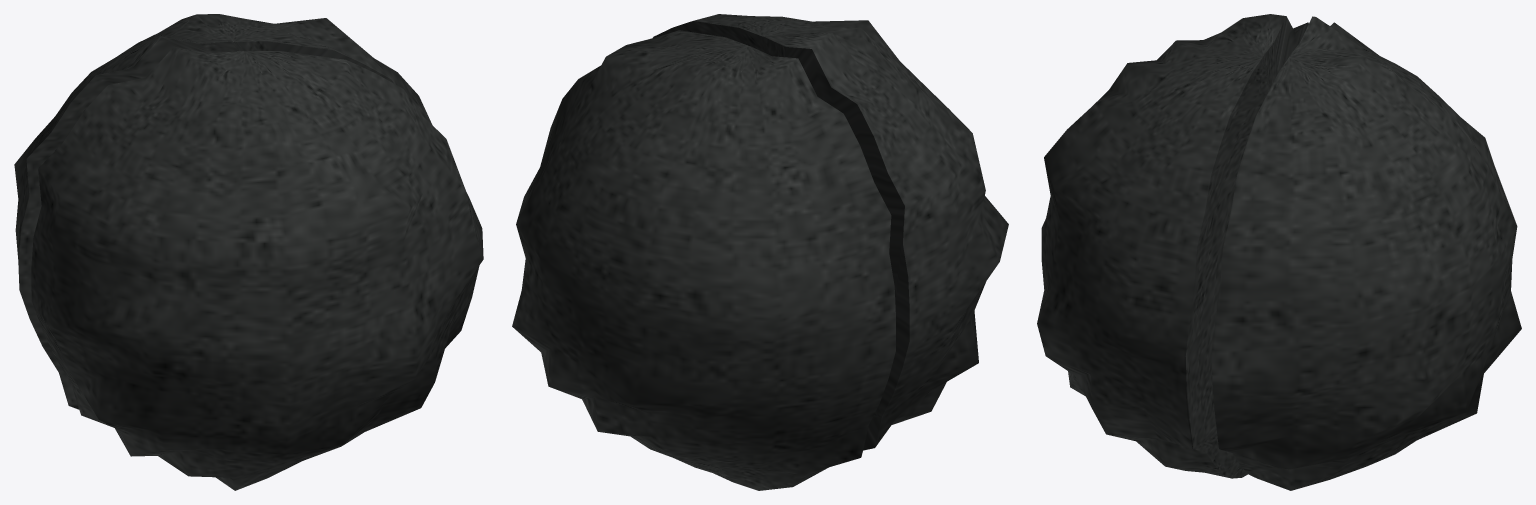
File: Bomb_Sliced.fbx
3 views of the same model, side by side, from view 1: azimuth 30°, elevation 25°; view 2: azimuth 150°, elevation 25°; view 3: azimuth 270°, elevation 25° (orthographic).
Visible parts, largest first — view 1: pSphere1; view 2: pSphere1; view 3: pSphere1.
Boxes of the visible parts, x1=… form: pSphere1: x1=14, y1=14, x2=483, y2=490; pSphere1: x1=512, y1=14, x2=1008, y2=490; pSphere1: x1=1037, y1=14, x2=1521, y2=490.
Size of the model in its own units: 105 by 106 by 109.
Materials: 1 (1 with a texture image).
